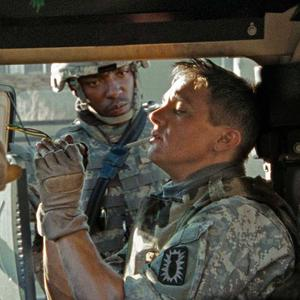cigarette: (114, 133, 157, 149)
